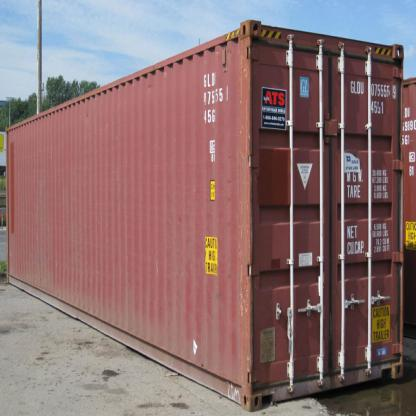Damage: (231, 27, 262, 392), (162, 232, 191, 302), (186, 333, 215, 369)
